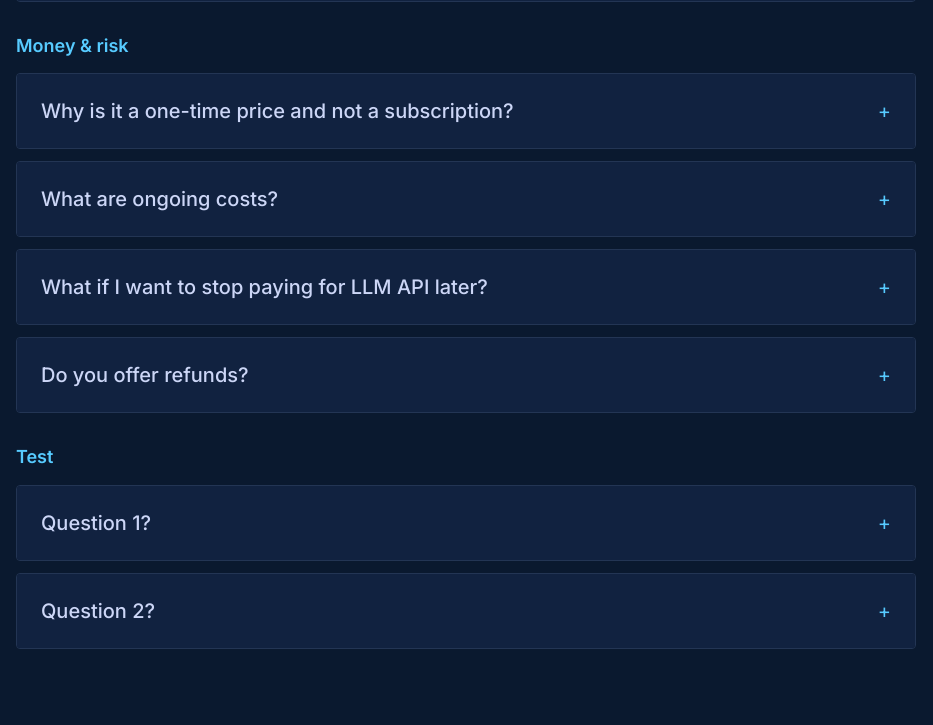
Scenario: FAQ › only allows one FAQ open at a time
The image size is (933, 725).
(page scrolled)
# Open first FAQ
Click the text "Question 1?".
click(96, 522)  # box top-left (41, 510), bottom-right (151, 536)
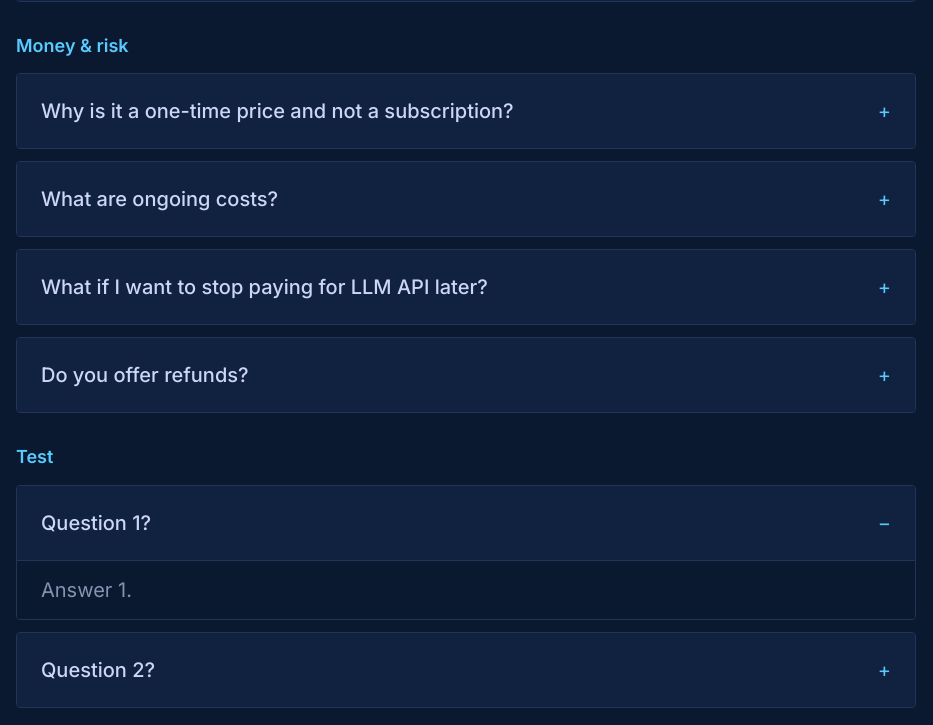
Result: the text "Answer 1." is shown at top-left (41, 578), bottom-right (132, 602)
# Open second FAQ - first should close
Click the text "Question 2?".
click(98, 670)  # box top-left (41, 656), bottom-right (155, 682)
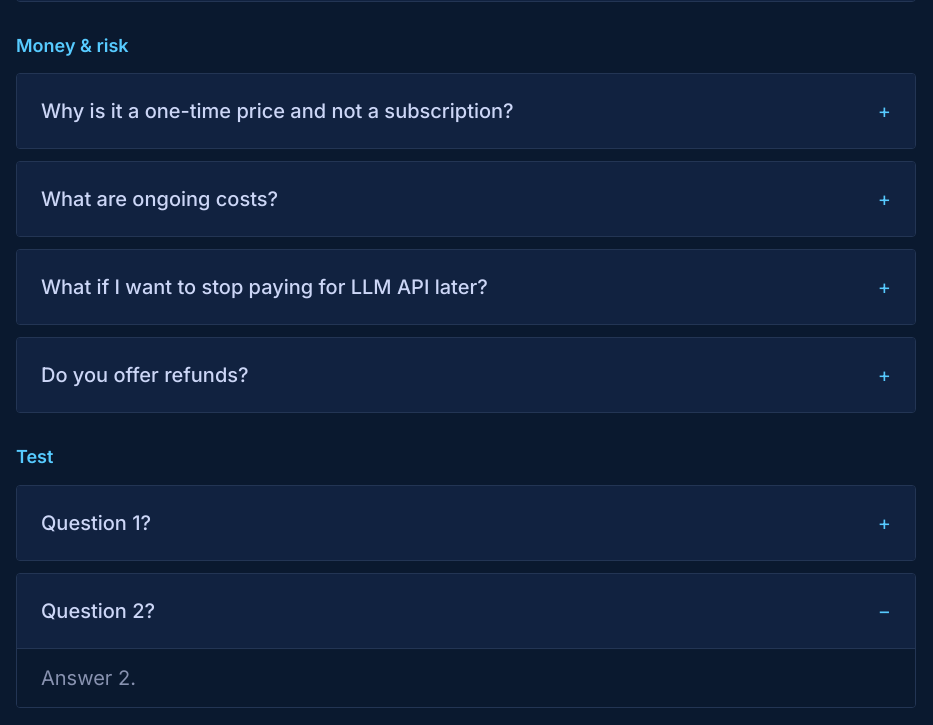
Result: the text "Answer 1." is gone
Result: the text "Answer 2." is shown at top-left (41, 666), bottom-right (136, 690)
